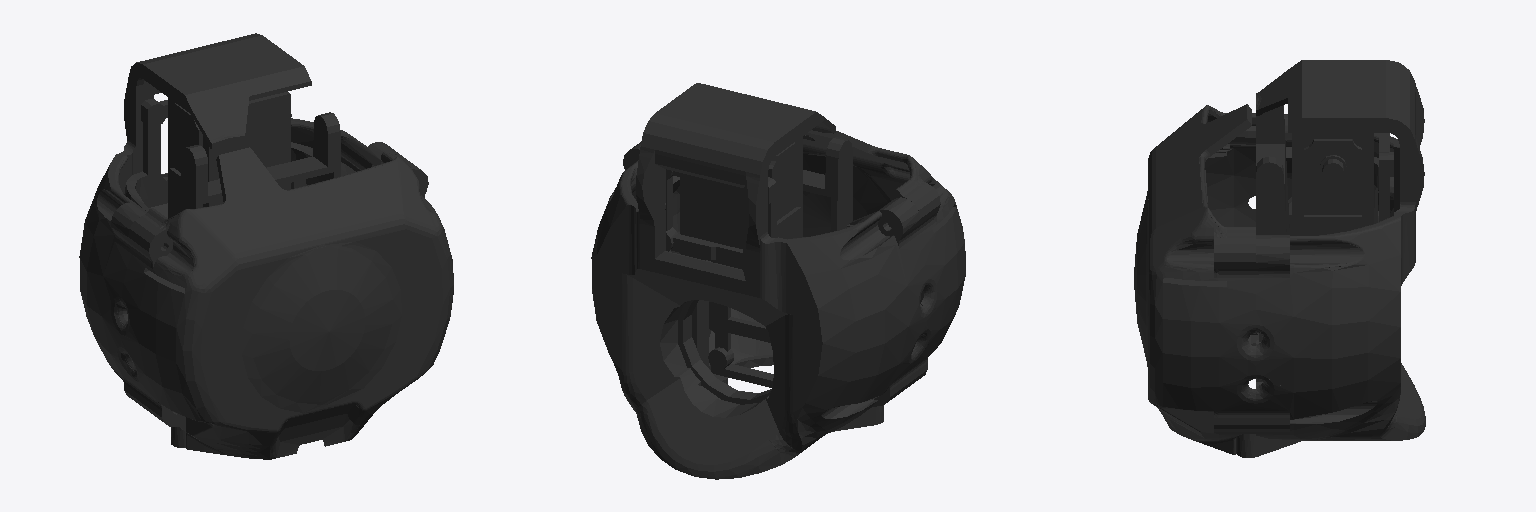
Rendered from Robot_Football_Player_SKS_2501_Head_B0348_Head_Base_06v1_1_mesh_11.obj.
3 renders of one model, left to right at view 1: azimuth 30°, elevation 25°; view 2: azimuth 150°, elevation 25°; view 3: azimuth 270°, elevation 25°, orthographic.
Bounding box in the file's own units: 0.094 × 0.1015 × 0.0806.